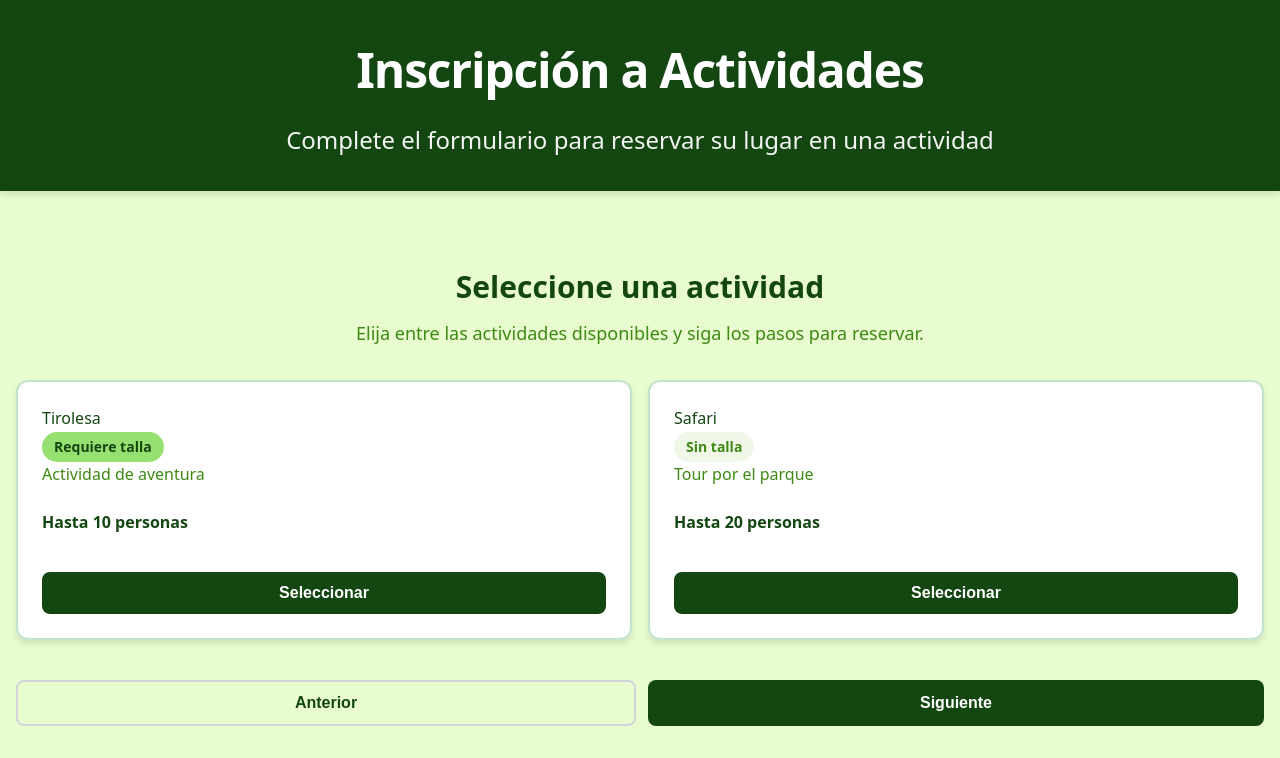
Test case: ActivityRegistrationForm › should not allow advancing without selecting an activity
The image size is (1280, 758).
expect the text "Tirolesa" is shown: met, box x1=42 y1=407 x2=101 y2=429
Step 1. Click the button "Siguiente" → {"x": 956, "y": 703}, box x1=648 y1=680 x2=1264 y2=726
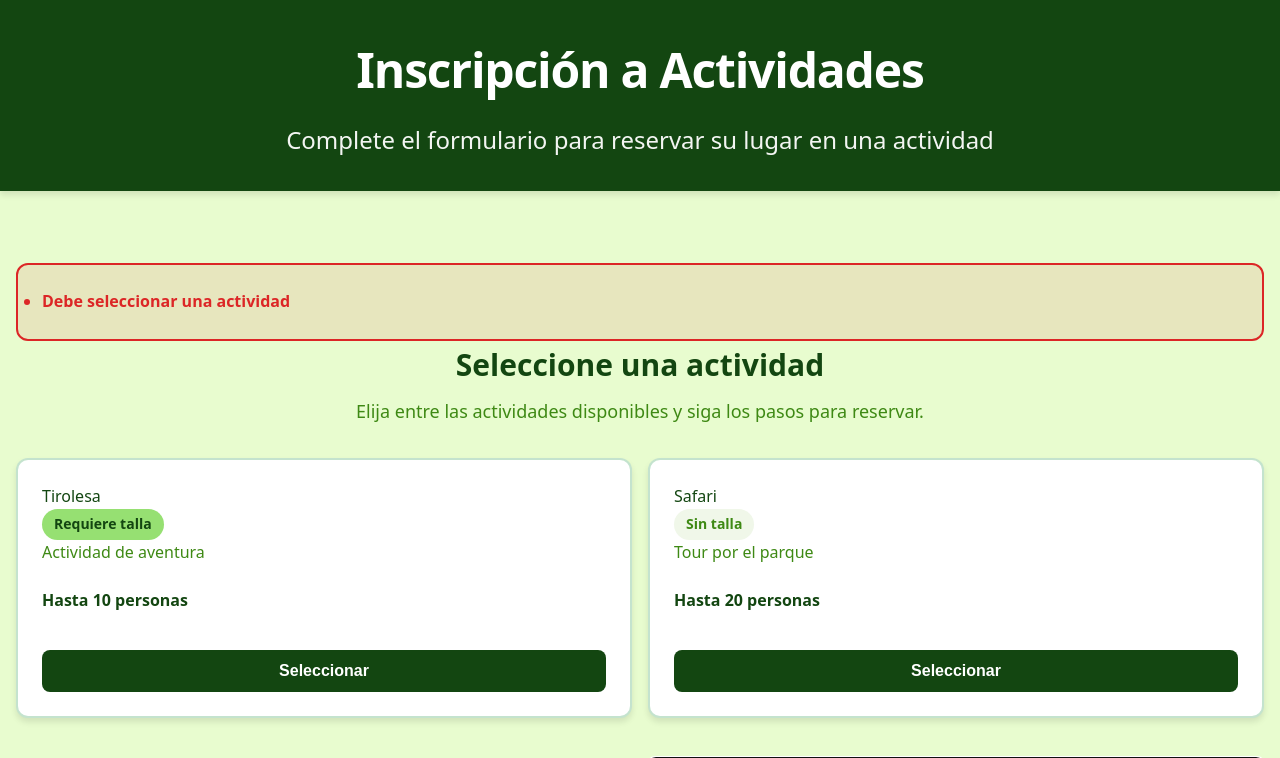
expect the list item "Debe seleccionar una actividad" is shown: met, box x1=42 y1=290 x2=290 y2=312
